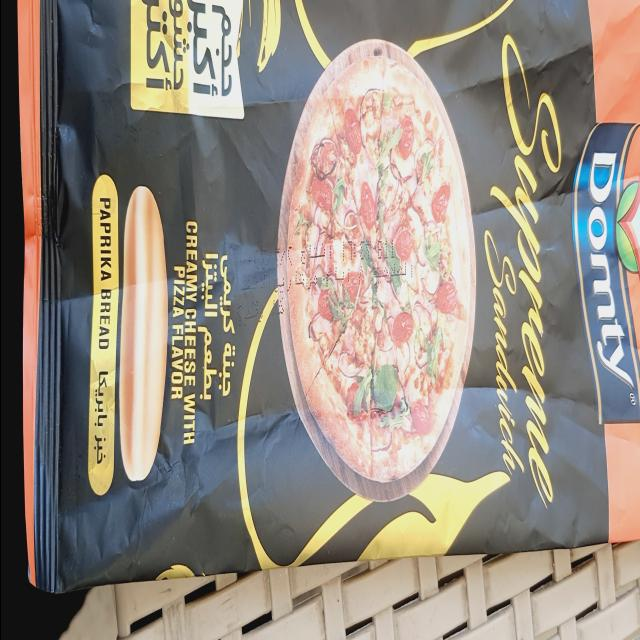plastic: (12, 0, 640, 605), (477, 281, 485, 299)
